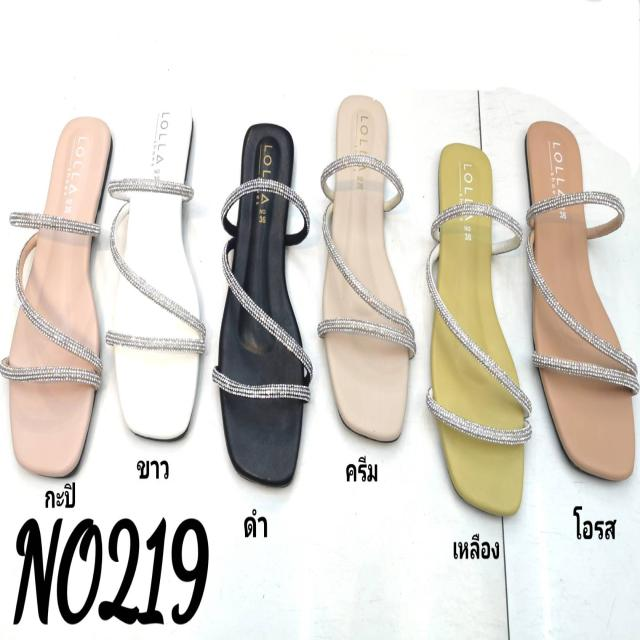black: (219, 123, 305, 486)
cream: (324, 118, 409, 450)
kapi: (10, 119, 109, 477)
orot: (531, 130, 637, 487)
white: (114, 108, 203, 440)
yellow: (428, 143, 524, 517)
